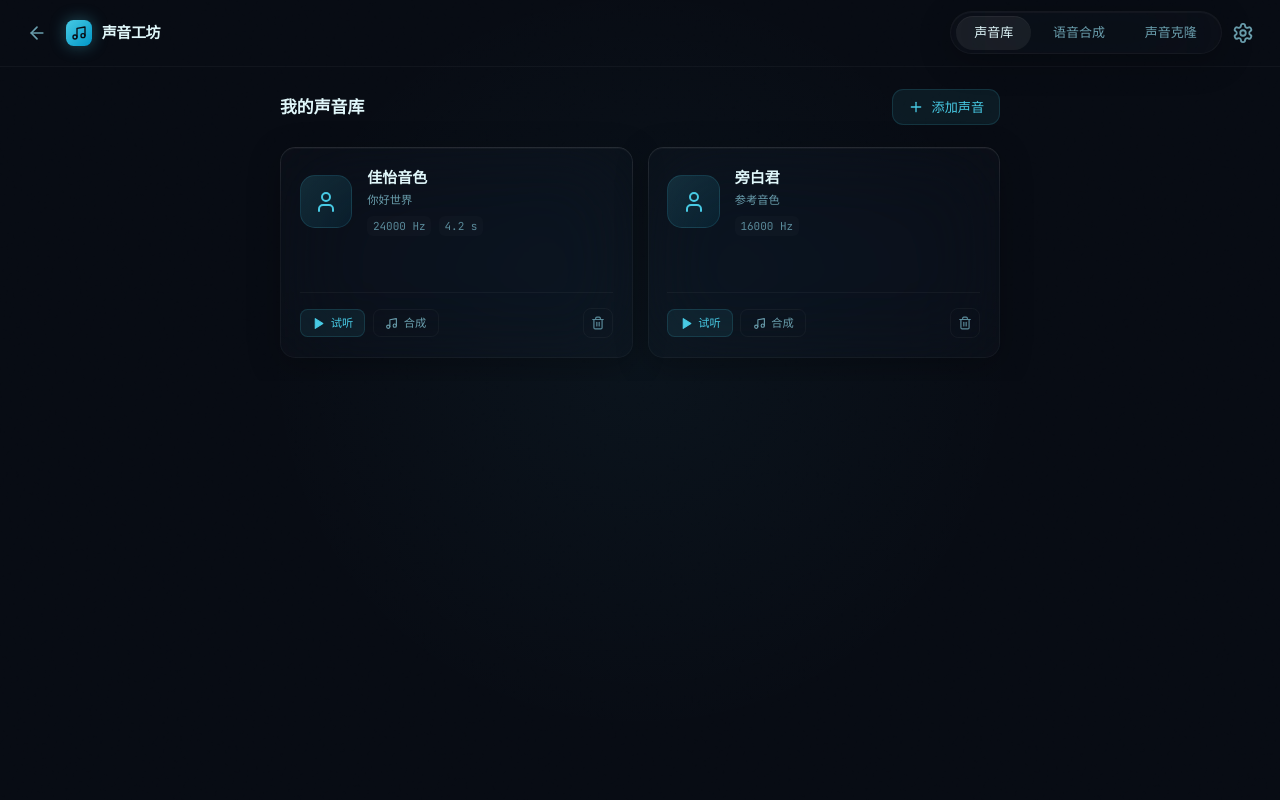
Test: VoiceStudioPage 声音克隆 Tab › 提供选择文件/录音/名称/参考文本/创建控件 (Req 1.1)
Click the button "声音克隆": (1171, 33) left=1127, top=16, right=1215, bottom=50
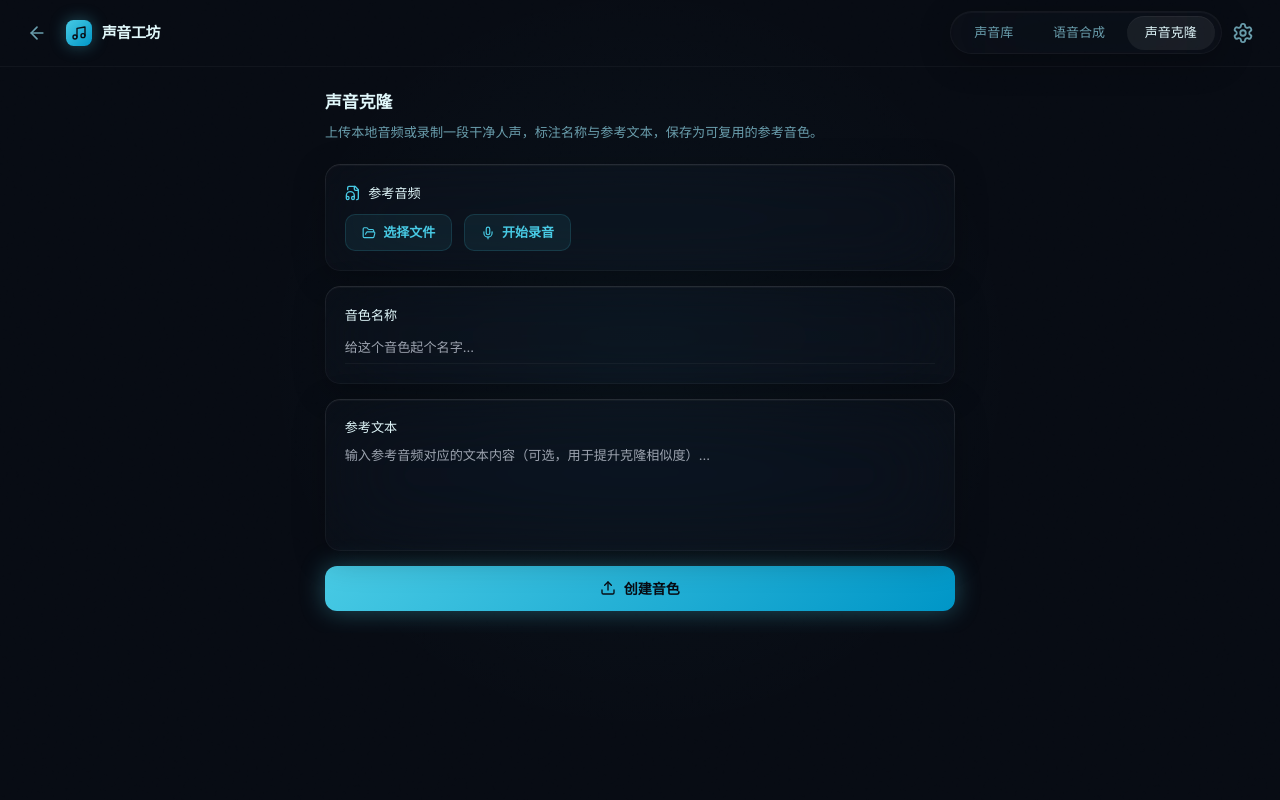
Now the button "选择文件" is shown, box left=345, top=214, right=452, bottom=251
Now the button "开始录音" is shown, box left=464, top=214, right=571, bottom=251
Now the element named "选择音频文件" is shown, box left=325, top=164, right=955, bottom=271
